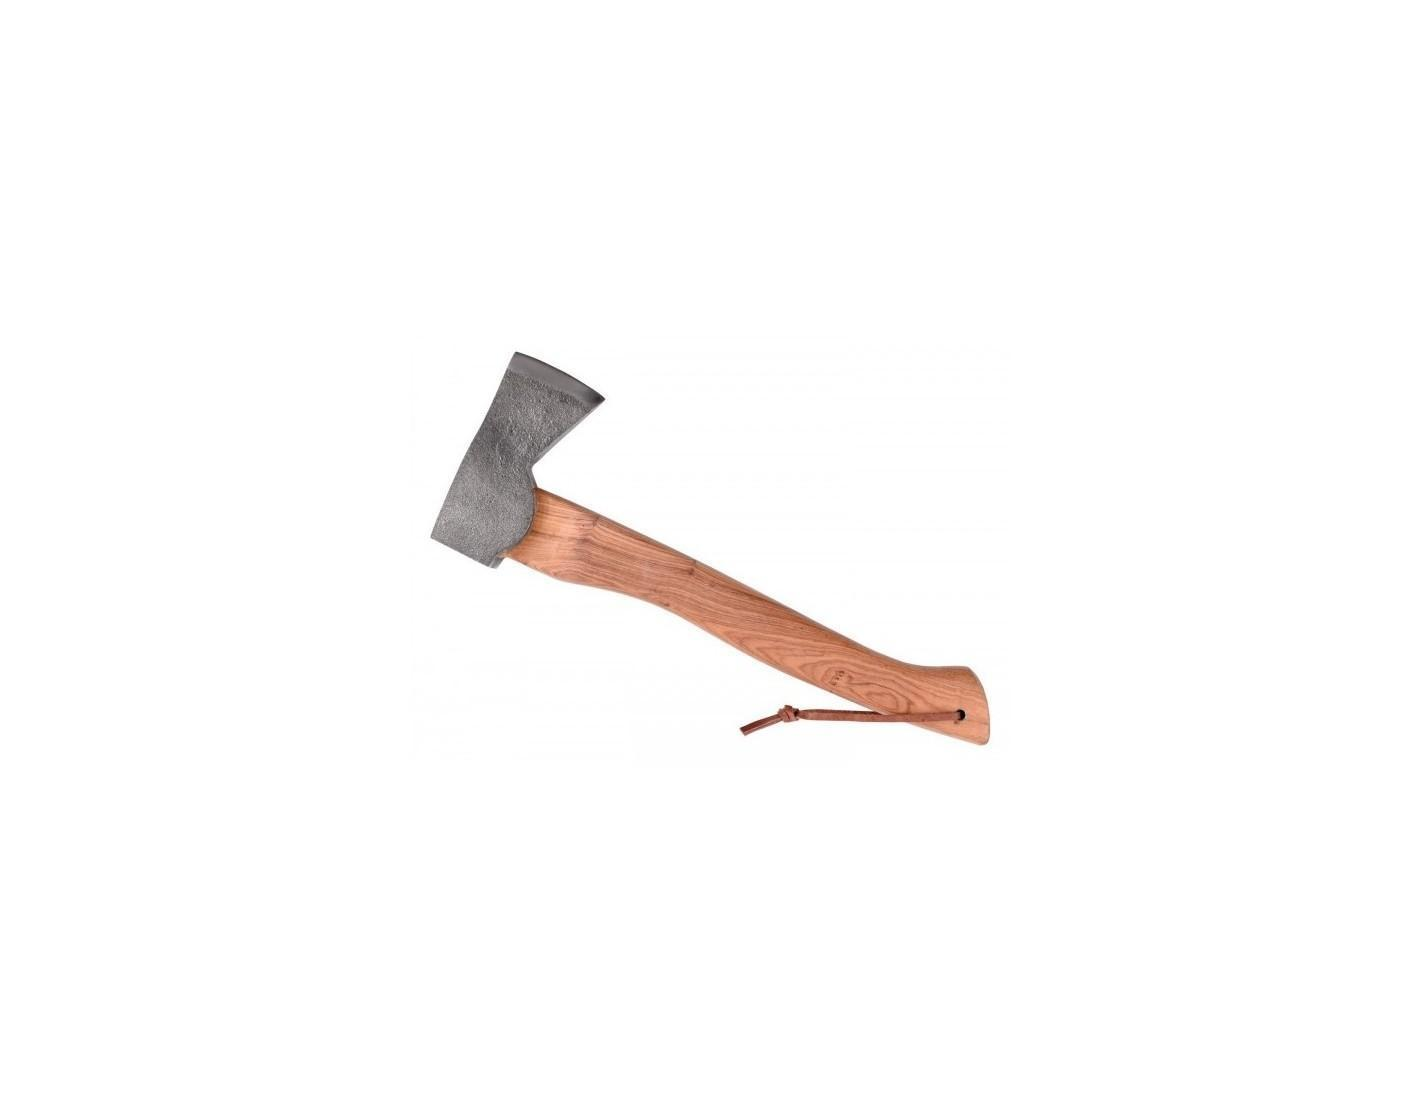machado: (433, 354, 989, 744)
